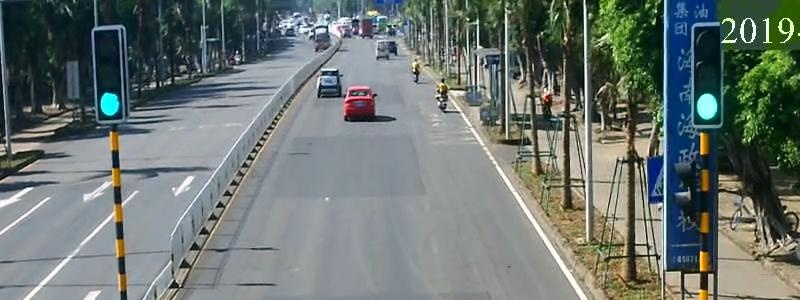green: (92, 87, 145, 130), (689, 85, 725, 130)
